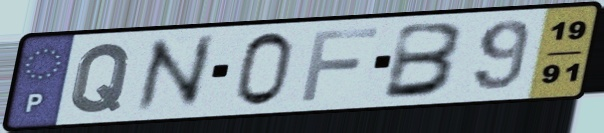0: (233, 29, 297, 109)
9: (469, 17, 534, 94)
B: (378, 20, 469, 102)
F: (297, 25, 383, 104)
N: (132, 31, 217, 117)
Q: (67, 40, 137, 115)
